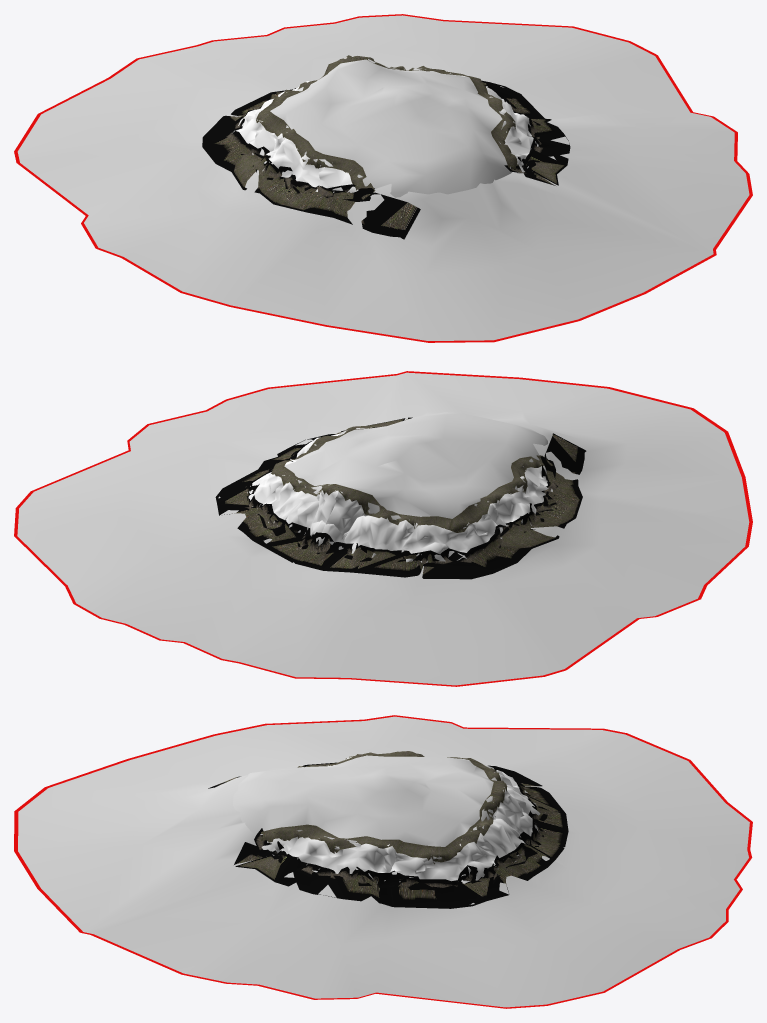
The model's file is climbing_rock_med.fbx.
3 views of the same model, one above another, from view 1: azimuth 30°, elevation 25°; view 2: azimuth 150°, elevation 25°; view 3: azimuth 270°, elevation 25° (orthographic). The views are drawn at different scales.
Visible parts, largest first — view 1: Rock_Med; view 2: Rock_Med; view 3: Rock_Med.
Boxes of the visible parts, <box> form: Rock_Med: <box>14,14,752,342</box>; Rock_Med: <box>14,371,752,686</box>; Rock_Med: <box>14,715,752,1008</box>.
Bounding box in the file's own units: 218488 × 27696 × 232315.
